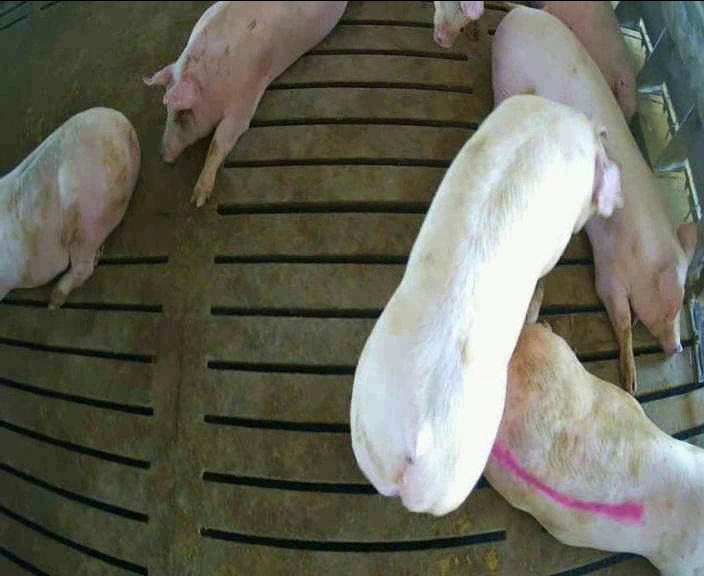pig: (351, 95, 622, 514), (492, 3, 696, 391), (486, 285, 703, 574), (144, 2, 345, 206), (0, 107, 139, 308), (544, 1, 636, 120)
